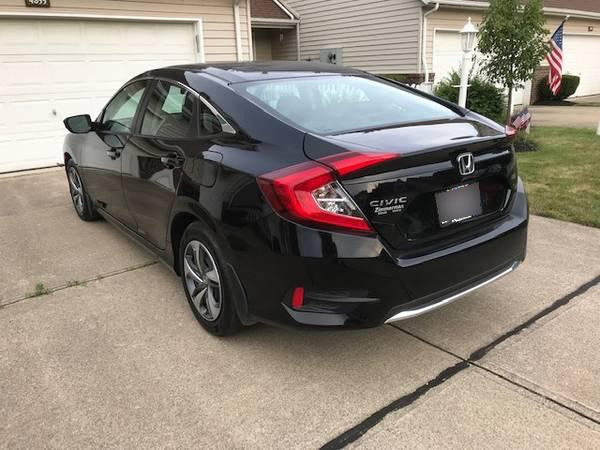Front_Left_Door: (79, 133, 132, 240)
Front_Left_Window: (84, 81, 150, 136)
Left_Taillight: (256, 149, 402, 241)
Rear_Bumper: (206, 182, 529, 327)
Rear_Fender: (176, 95, 315, 223)
Rear_Left_Door: (121, 142, 192, 275)
Rear_Left_Window: (131, 81, 199, 143)
Rear_Windshield: (229, 72, 461, 130)
Roof: (131, 60, 365, 151)
Tailgate: (307, 115, 520, 251)
Wheel: (175, 222, 241, 336), (64, 162, 86, 216)
